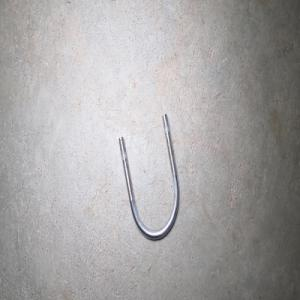ClampPart: (118, 112, 180, 241)
